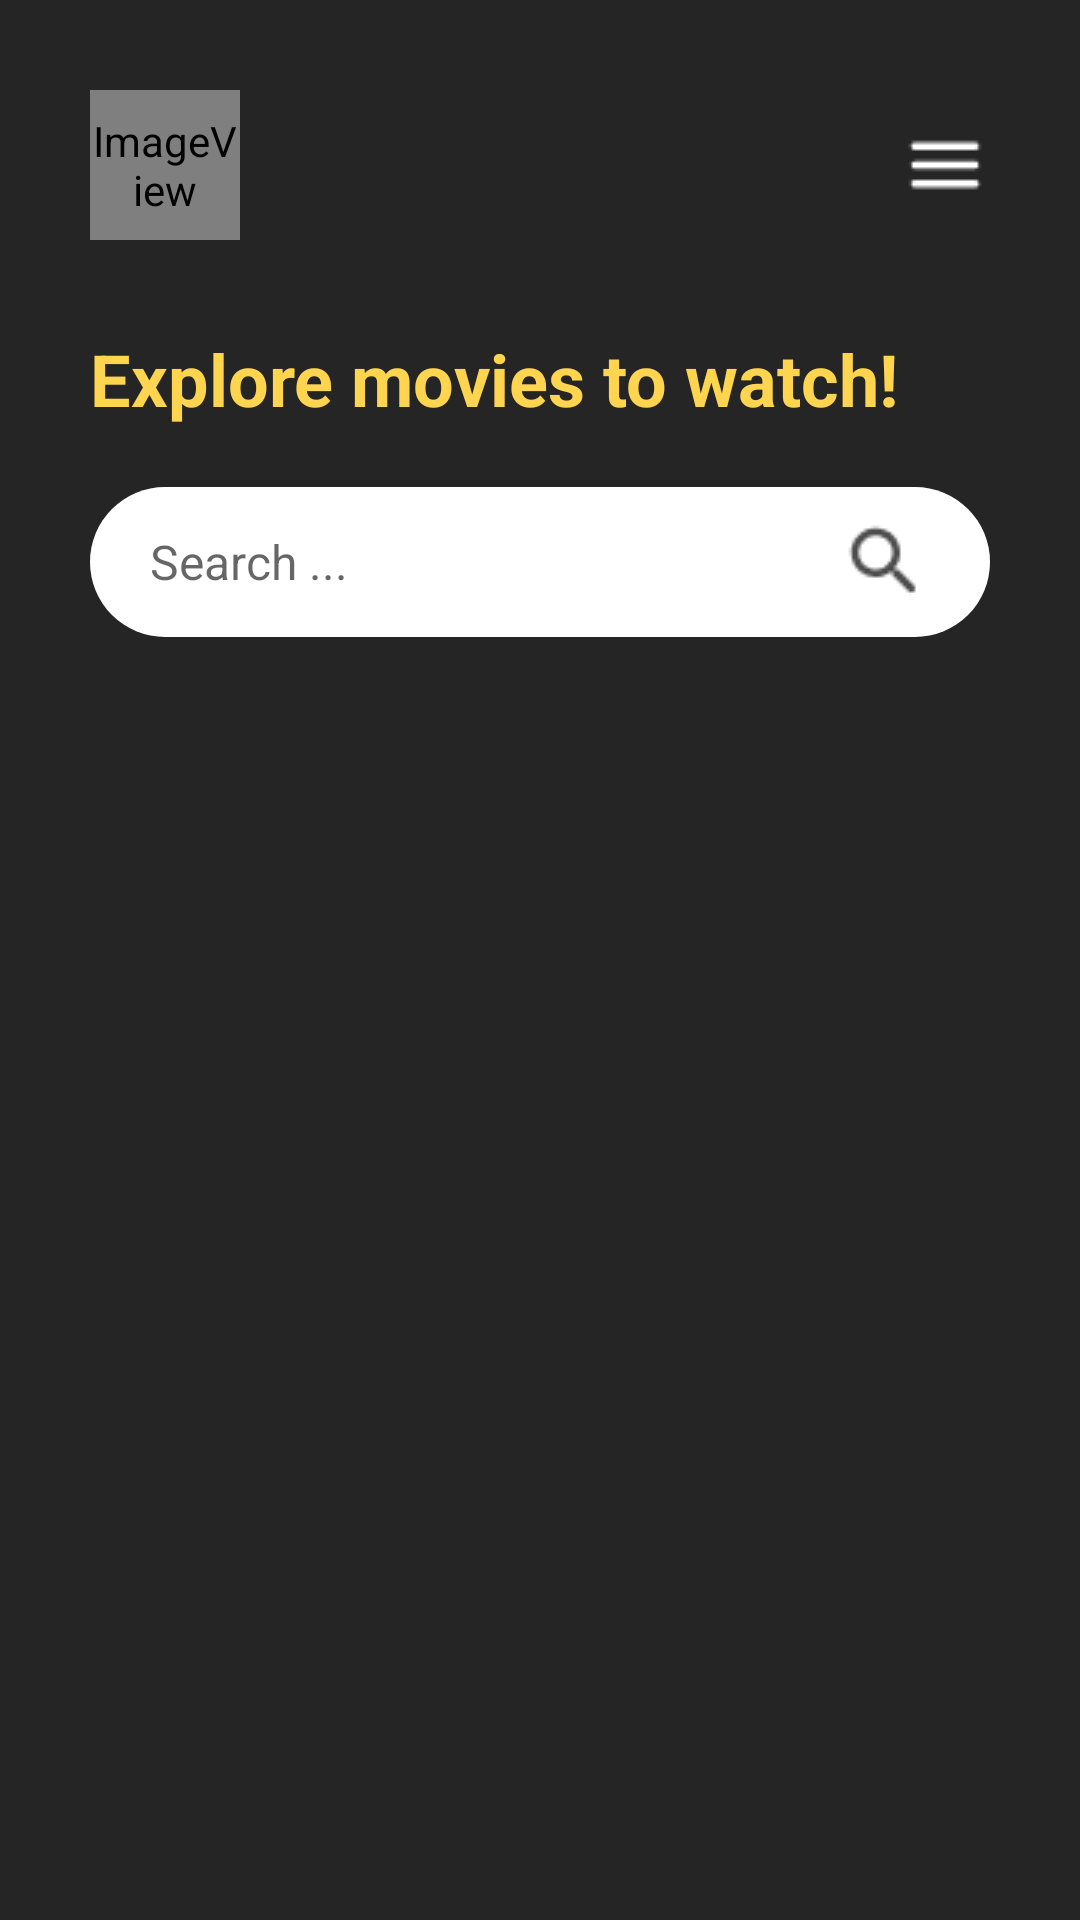

Where to tap for icons on this 1080×1920 app screen, as (x=x, y=y):
menu: (x=945, y=165)
